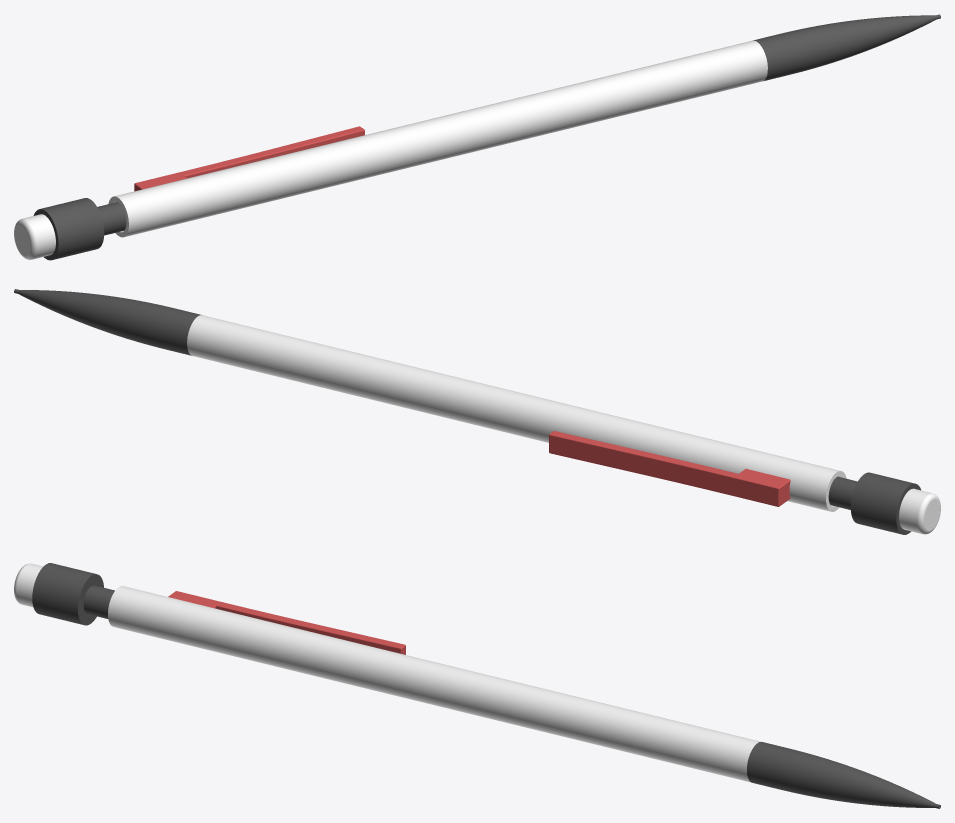
Rendered from Pencil.glb.
3 views of the same model, one above another, from view 1: azimuth 30°, elevation 25°; view 2: azimuth 150°, elevation 25°; view 3: azimuth 330°, elevation 25° (orthographic).
Parts seen in each view (by area): view 1: Pencil; view 2: Pencil; view 3: Pencil.
Part boxes in pixels (x1,y1,x2,y2): Pencil: [14, 14, 940, 260]; Pencil: [14, 289, 940, 534]; Pencil: [14, 563, 940, 808].
Size of the model in its own units: 0.5025 by 0.025 by 0.0345.
